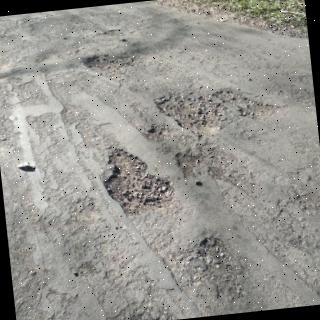pothole: (100, 144, 175, 217), (156, 87, 273, 132), (177, 140, 253, 190), (192, 235, 238, 302), (82, 56, 131, 70)
